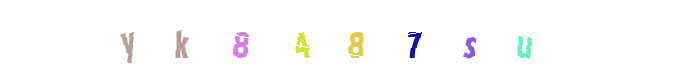4: (292, 0, 372, 80)
7: (374, 0, 454, 80)
8: (236, 0, 316, 80), (305, 0, 385, 80)
K: (224, 0, 304, 80)
S: (424, 0, 504, 80)
U: (484, 0, 564, 80)
Y: (115, 0, 195, 80)
